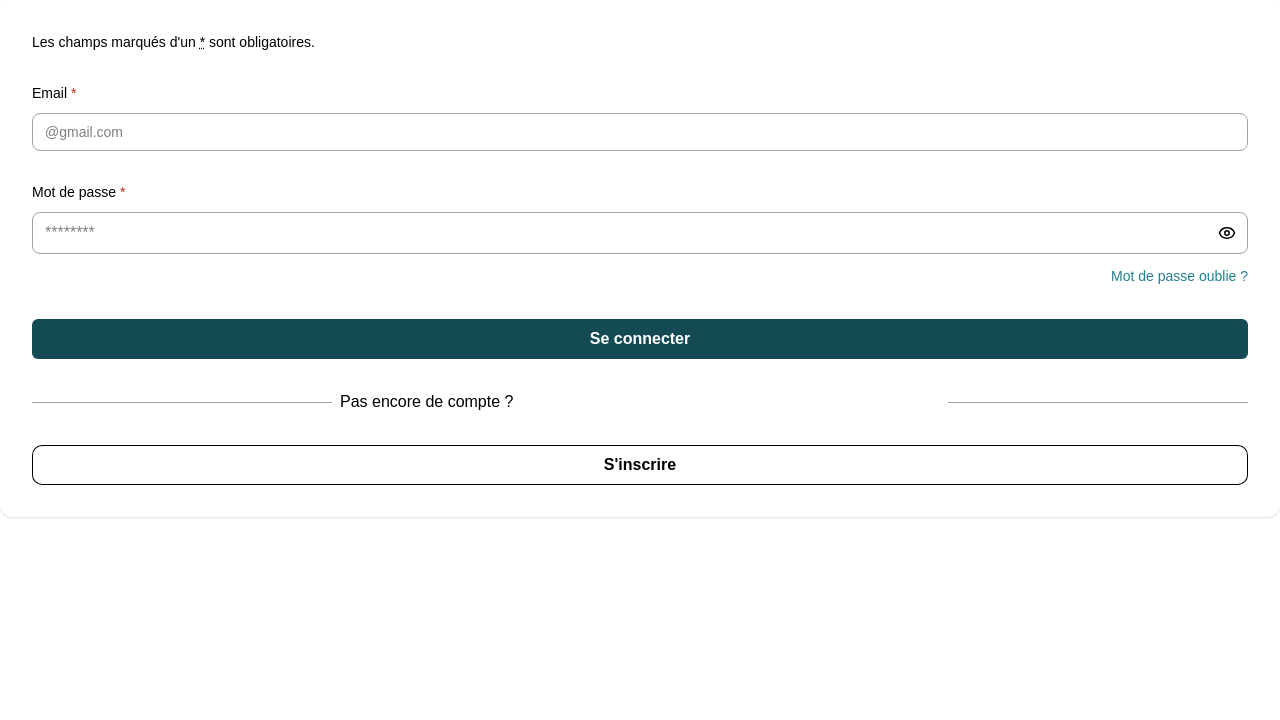
it: LoginForm › affiche les erreurs serveur (400 JSend fail)
In the field with placeholder "@gmail.com": (640, 132) [32, 113, 1248, 151], type "bad@example.com"
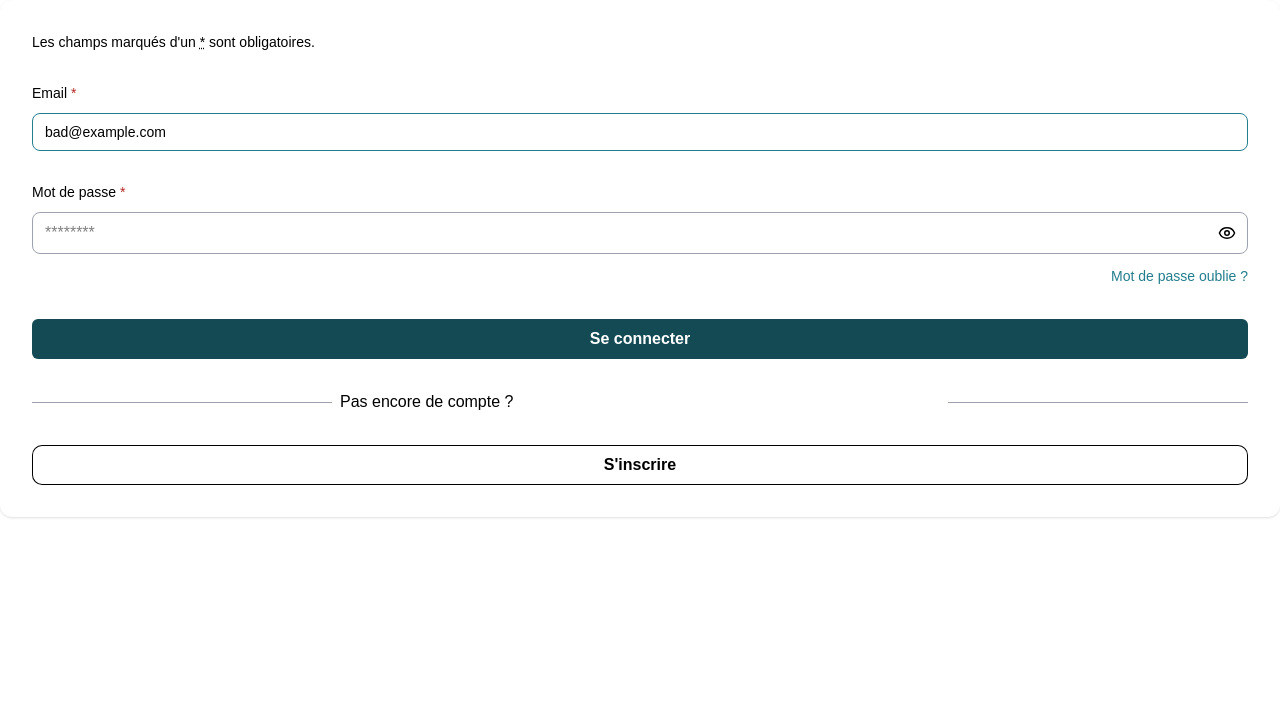
In the password field with placeholder "********": (640, 233) [32, 212, 1248, 254], type "wrongpass"
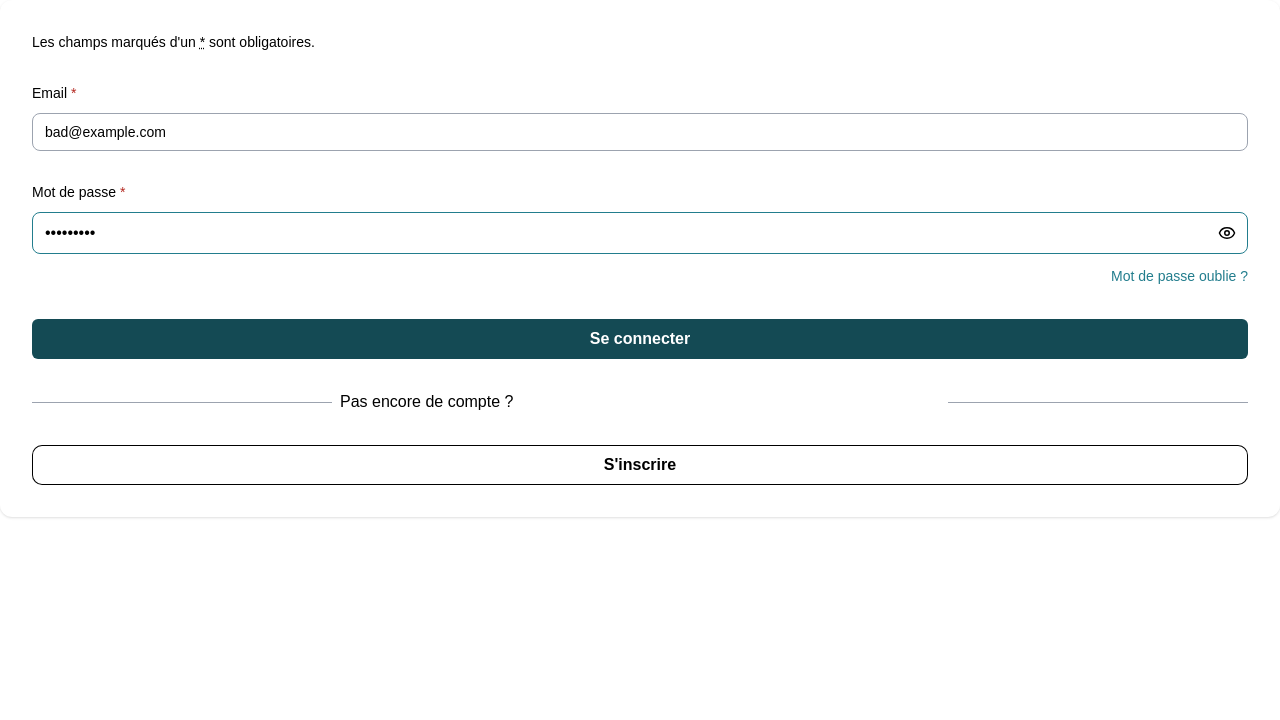
Click the button "Se connecter": click(640, 339) [32, 319, 1248, 359]
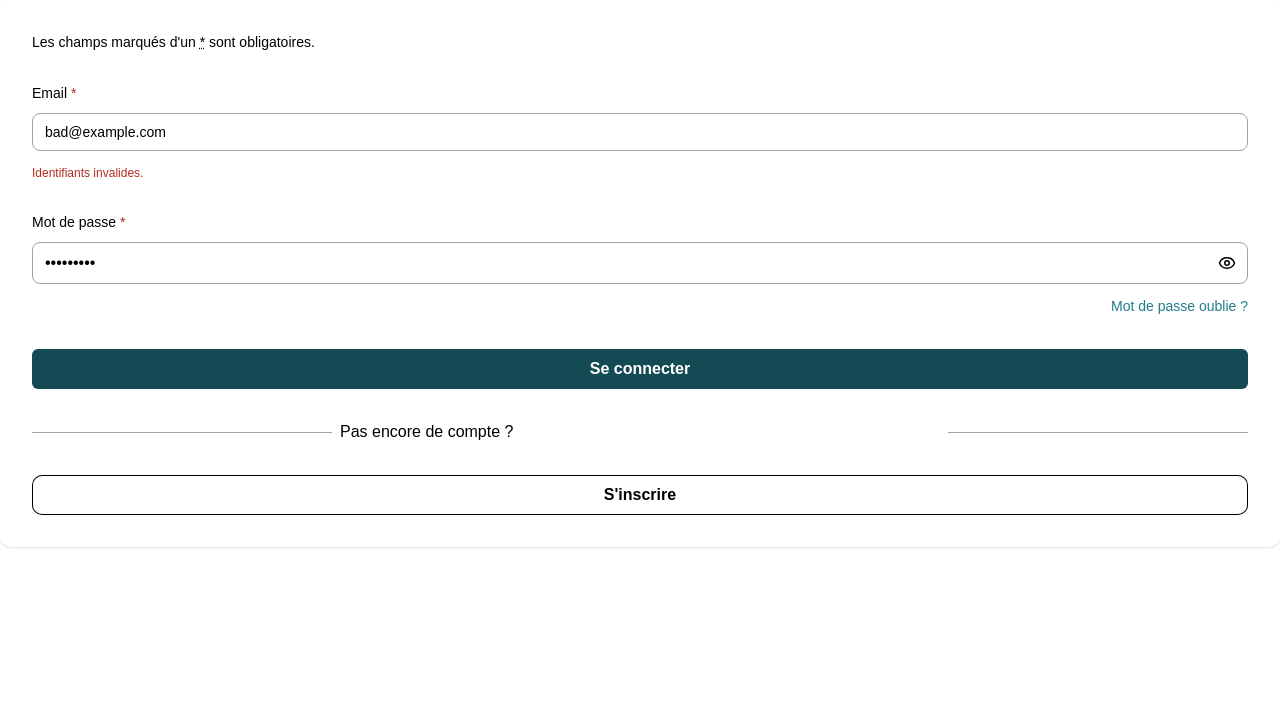
Check: the text "Identifiants invalides." is shown, box [32, 166, 143, 180]
